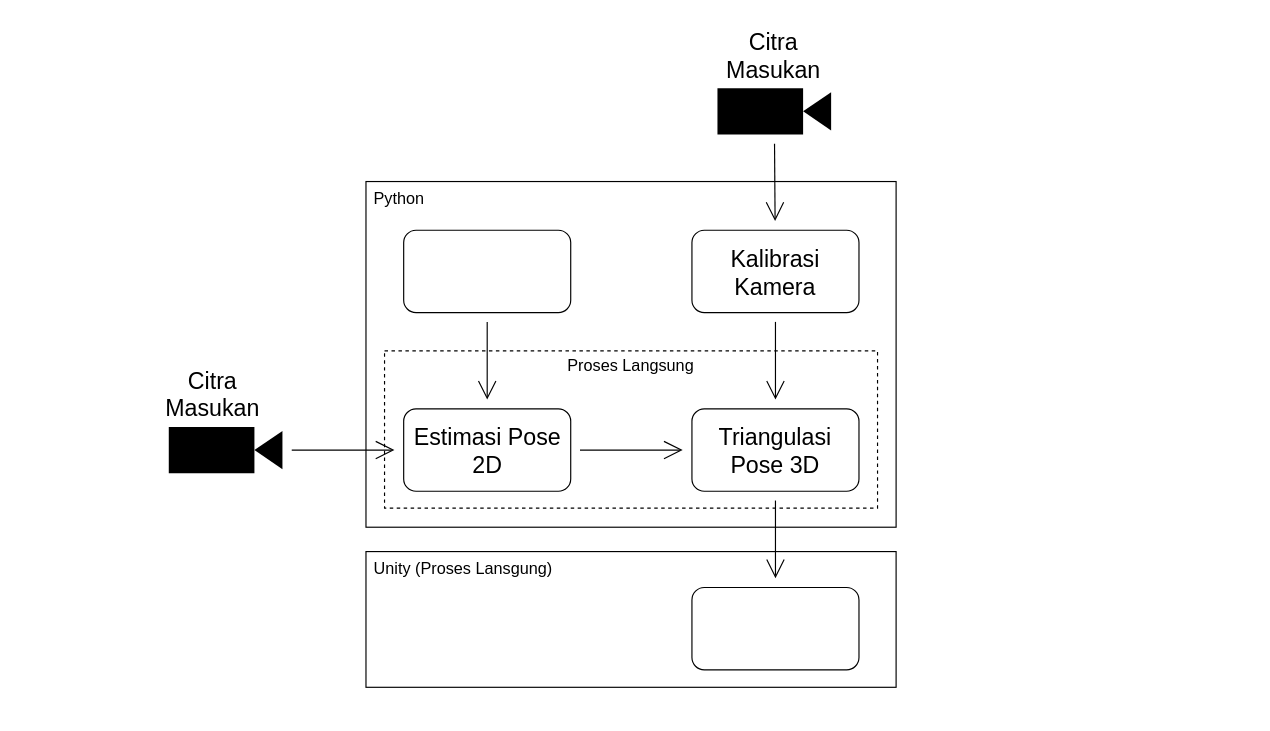
Some shapes in this 1270 by 731 pixel diagram are drawn without their labels. Each missing label, with the box of its shape:
Pemelajaran Model: (403, 229, 571, 313)
Pemosisian Avatar: (691, 586, 859, 670)
